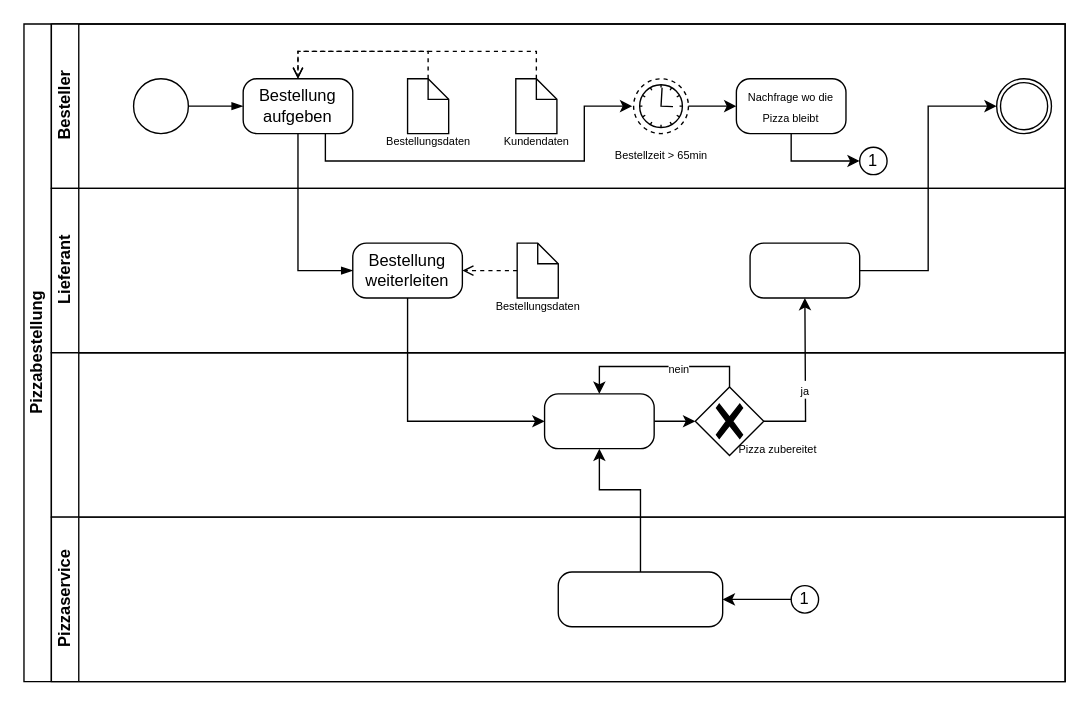
This 1089x706 diagram has some shape labels left out. Each missing label, with the box of its shape:
Nachricht an den Pizzabäcker weiterleiten: (557, 571, 723, 627)
Pizza ausliefern: (749, 242, 860, 298)
Pizza zubereiten: (543, 393, 654, 449)
Pizzabäcker: (50, 351, 1065, 517)
